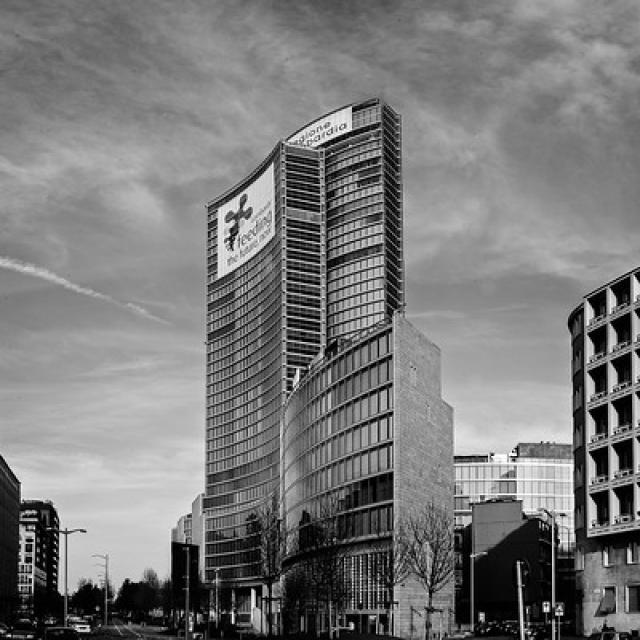building: (194, 92, 462, 639)
